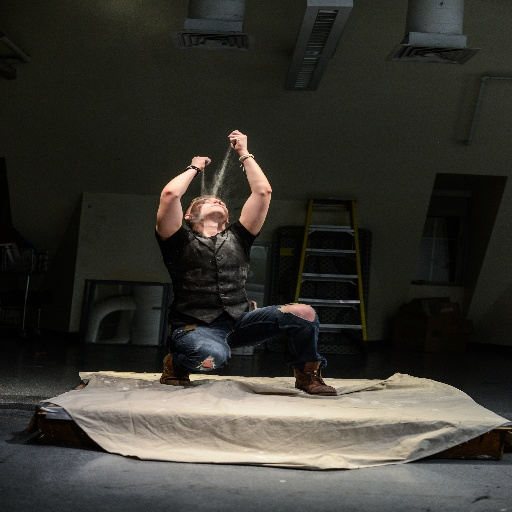hand: (218, 130, 262, 170), (186, 155, 210, 171)
